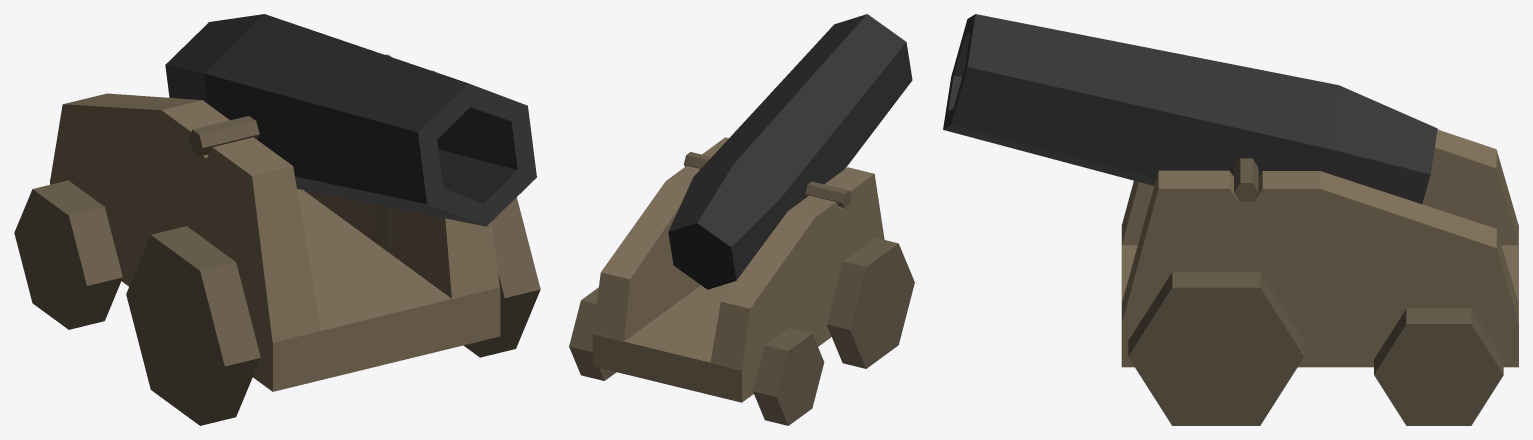
The model's file is Cannon.fbx.
The picture shows the model from 3 angles, left to right: view 1: azimuth 30°, elevation 25°; view 2: azimuth 150°, elevation 25°; view 3: azimuth 270°, elevation 25°; orthographic projection. The views are drawn at different scales.
Visible parts, largest first — view 1: Cannon; view 2: Cannon; view 3: Cannon.
Part boxes in pixels (x1,y1,x2,y2): Cannon: (14,14,540,425); Cannon: (569,14,914,425); Cannon: (943,14,1518,425).
Bounding box in the file's own units: 69.73 × 81.21 × 123.
